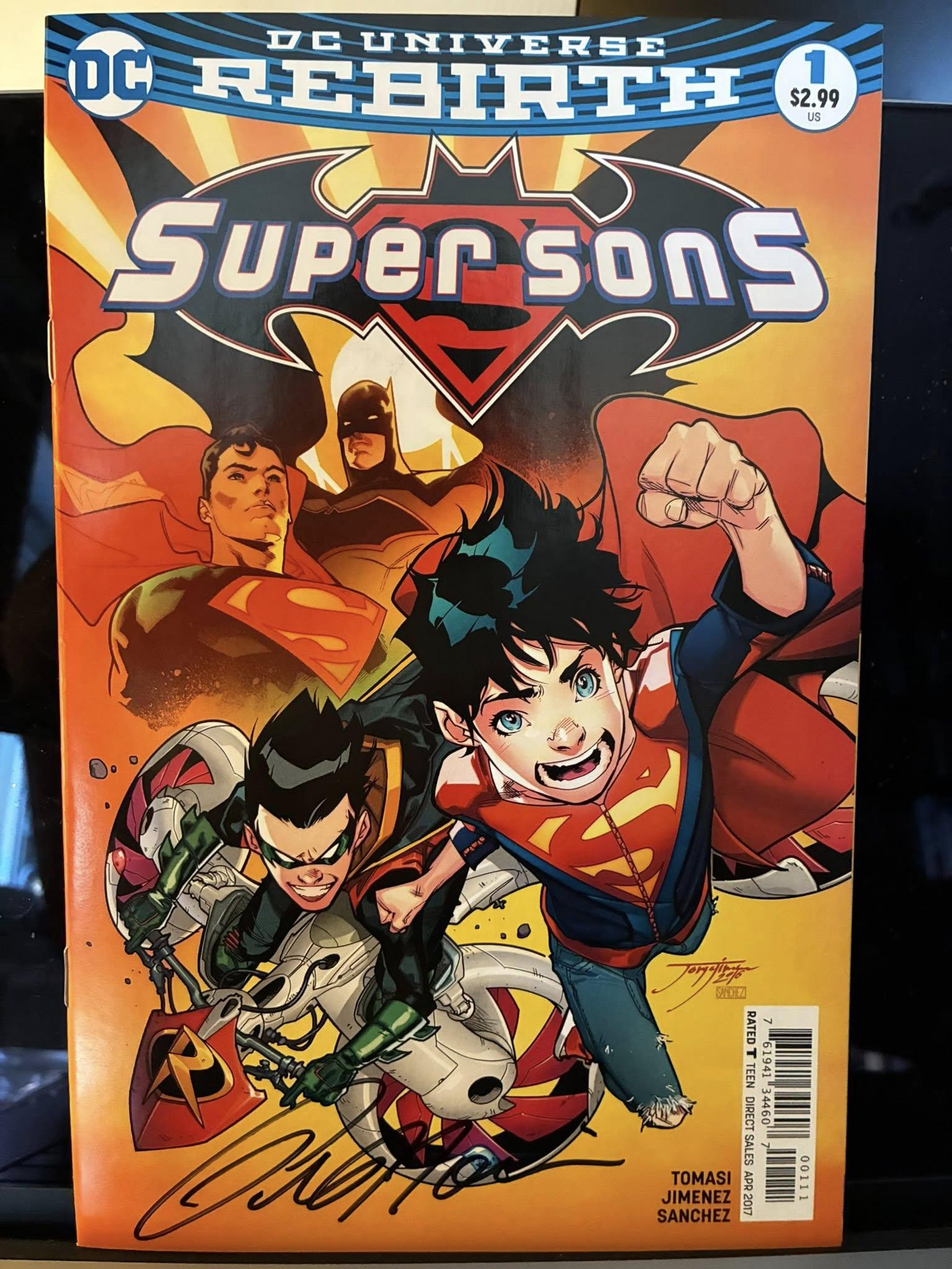comic: (38, 11, 880, 1258)
